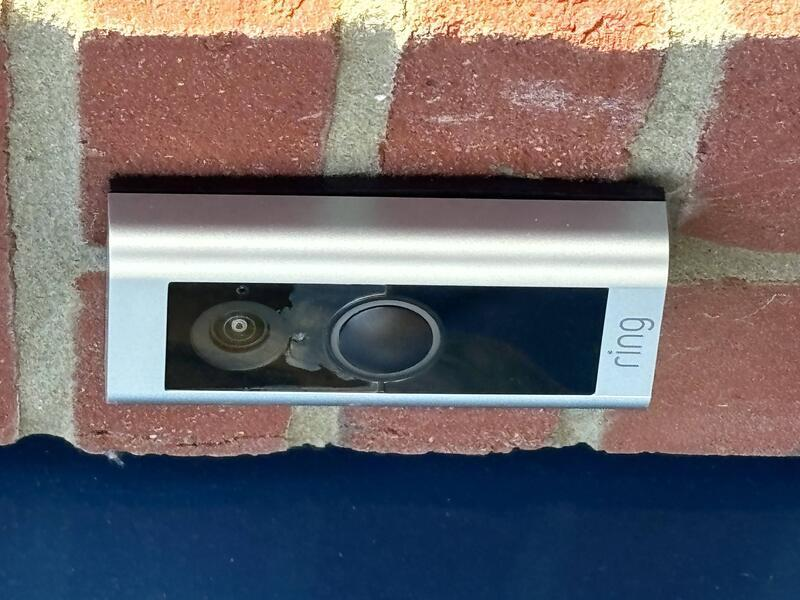doorbell: (186, 90, 414, 600)
